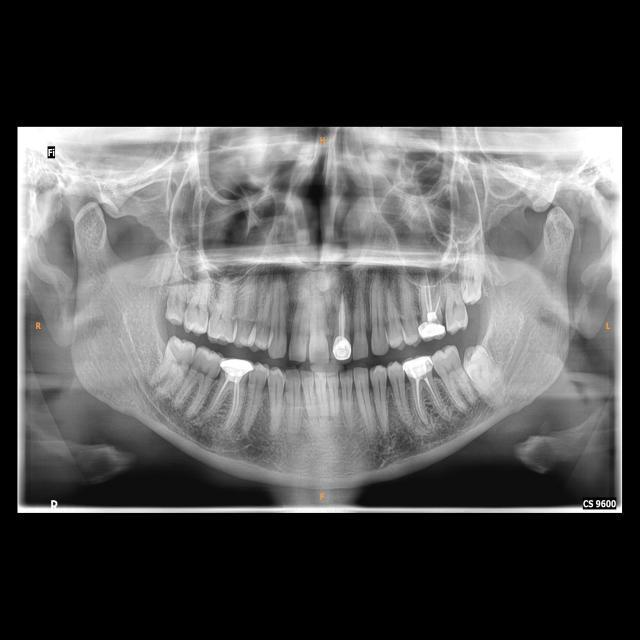kanal-tedavisi: (209, 374, 240, 424), (413, 380, 442, 420), (422, 281, 444, 321), (332, 296, 349, 338)
kaplama: (221, 355, 254, 379), (402, 355, 434, 379), (415, 319, 446, 340), (332, 334, 353, 362)
